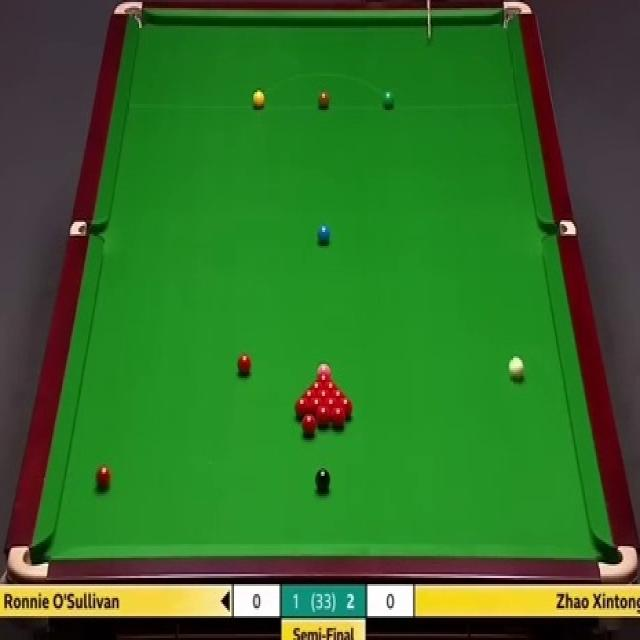pocket: (596, 540, 638, 582), (6, 542, 46, 578), (500, 0, 534, 31), (111, 0, 142, 31), (536, 220, 577, 237), (70, 218, 103, 236)
